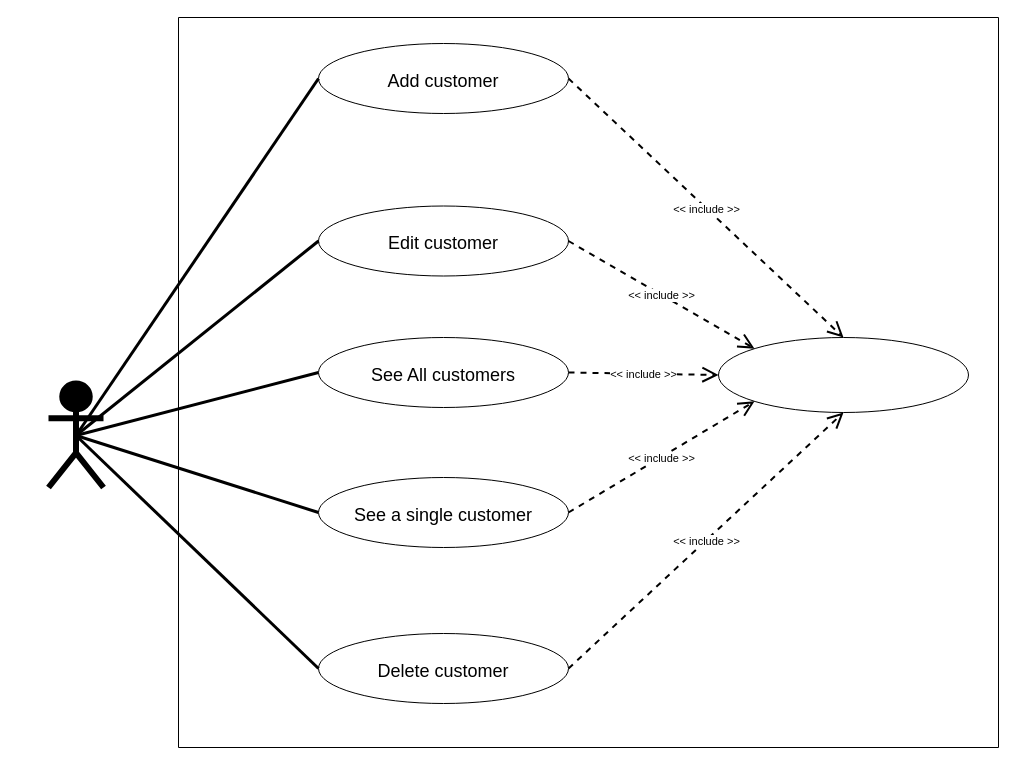
This 1016x765 diagram has some shape labels left out. The shapes that lost their labels are listed below. From the top down, each one's centre as x and y in pixels, then its label:
pixel 843 374: To log in
pixel 75 435: Administrator
